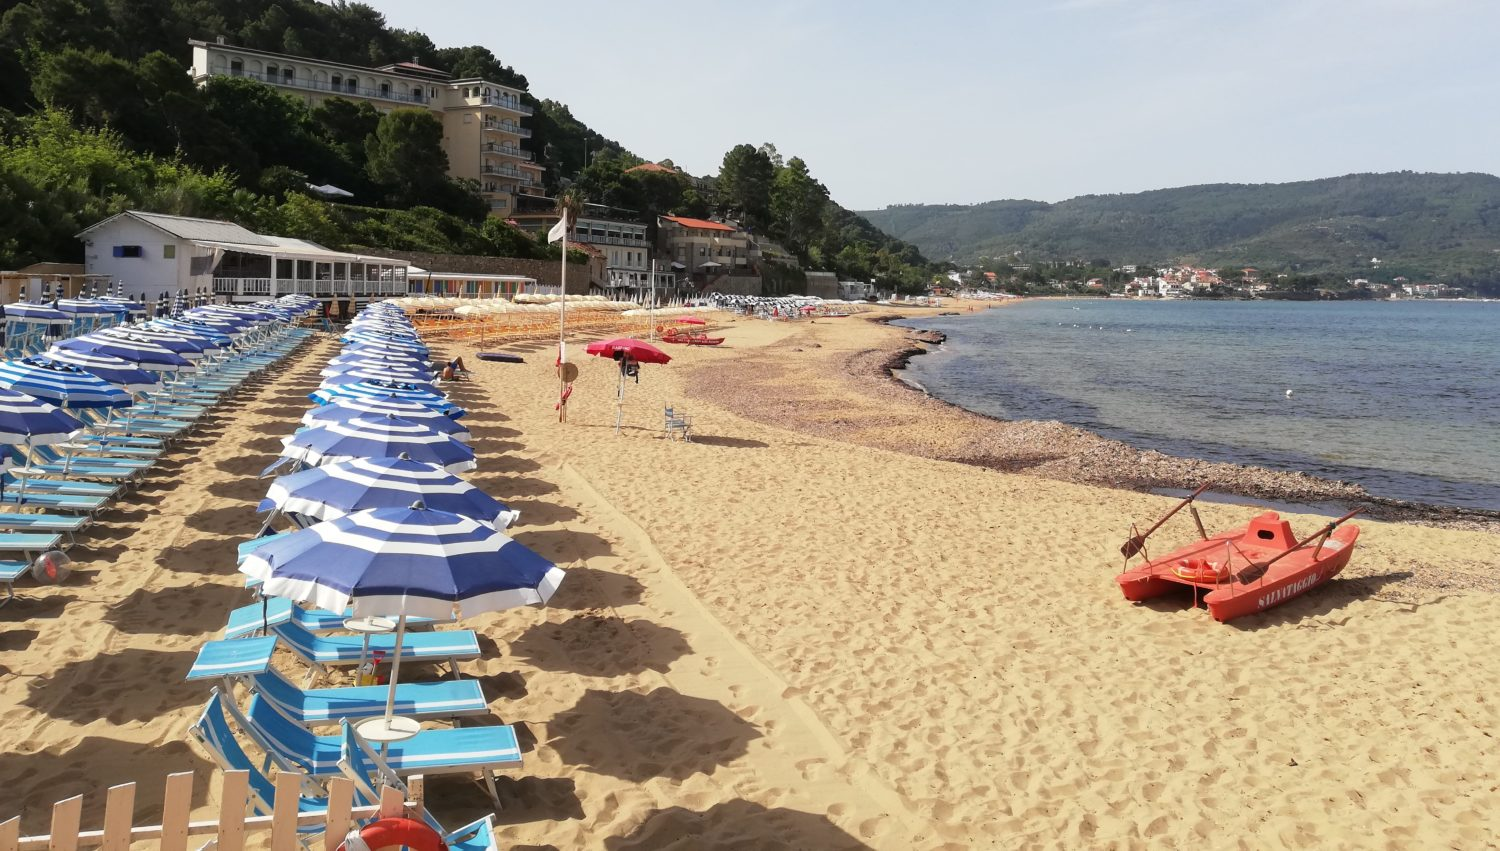Flag: (545, 215, 568, 242)
